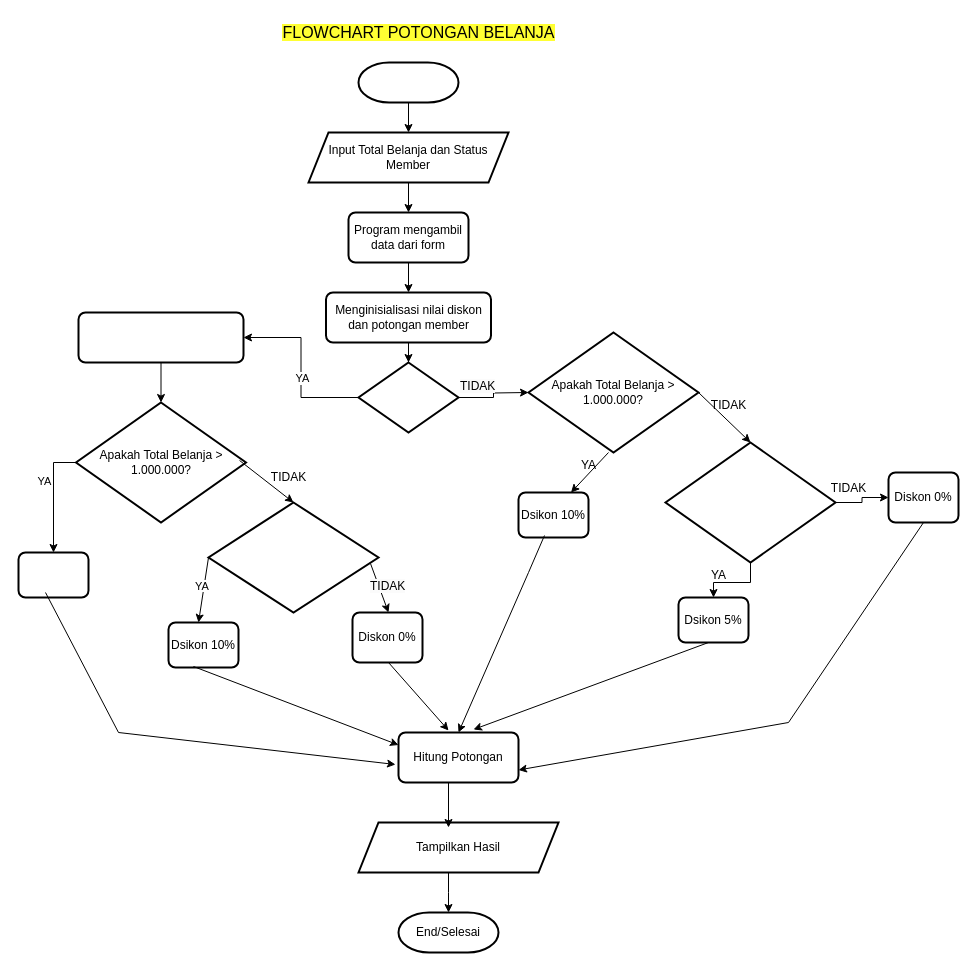
Some shapes in this 976 by 970 pixel diagram are drawn without their labels. The shapes that lost their labels are listed below. From the top down, each one's box as (x1, y1, x2, y2) in pixels, then its label:
(357, 61, 459, 103): Start/mulai
(77, 311, 244, 363): Set potonganMember = 10%
(357, 361, 459, 433): Apakah Pengguna Member?
(664, 441, 836, 563): Apakah Total Belanja ≥ 500.000?
(17, 551, 89, 598): Dsikon 15%
(207, 501, 379, 613): Apakah Total Belanja >= 500.000?
